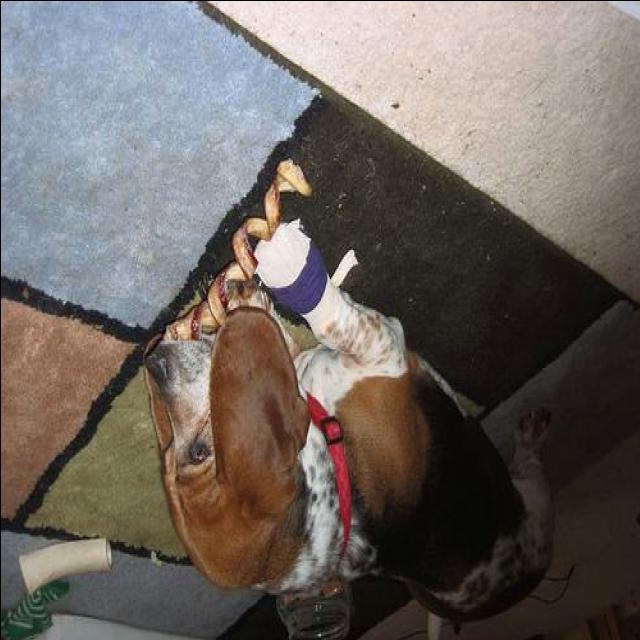basset: (144, 222, 556, 625)
